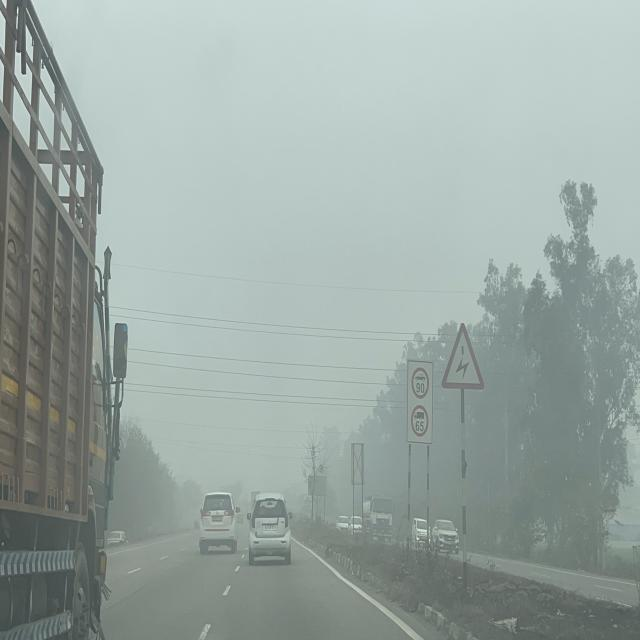WARNING: (441, 322, 485, 390)
